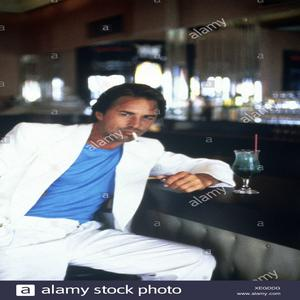cigarette: (133, 131, 139, 146)
